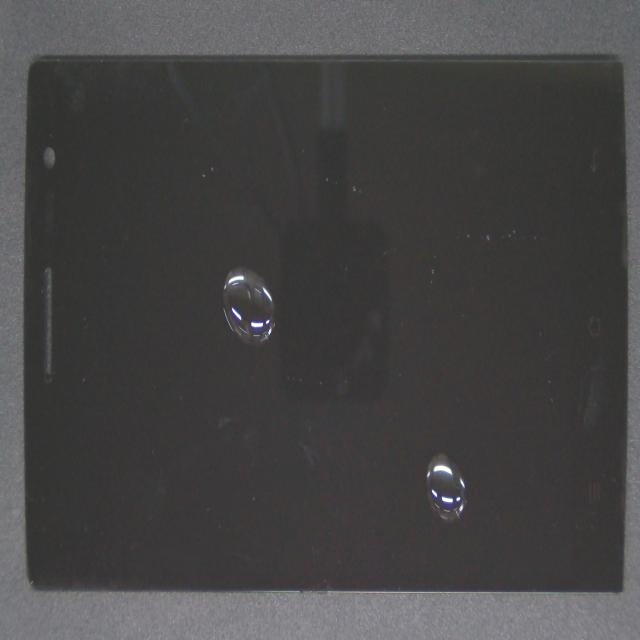oil: (211, 205, 640, 640), (138, 115, 355, 409)
